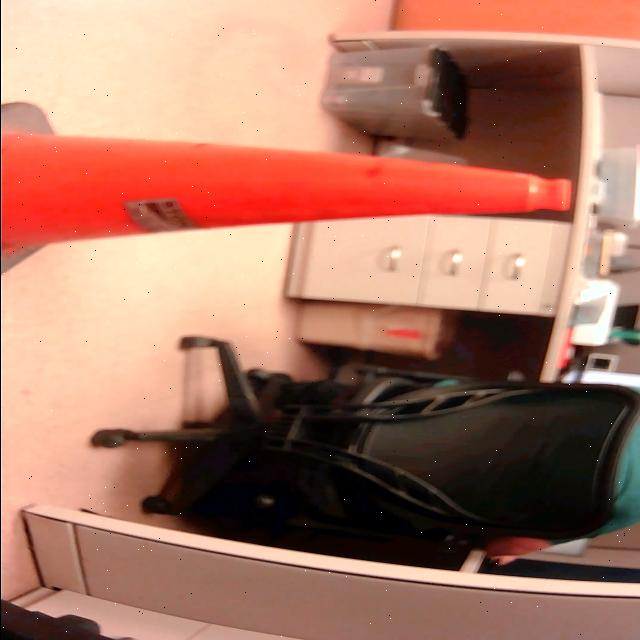traffic cone: (1, 98, 579, 292)
